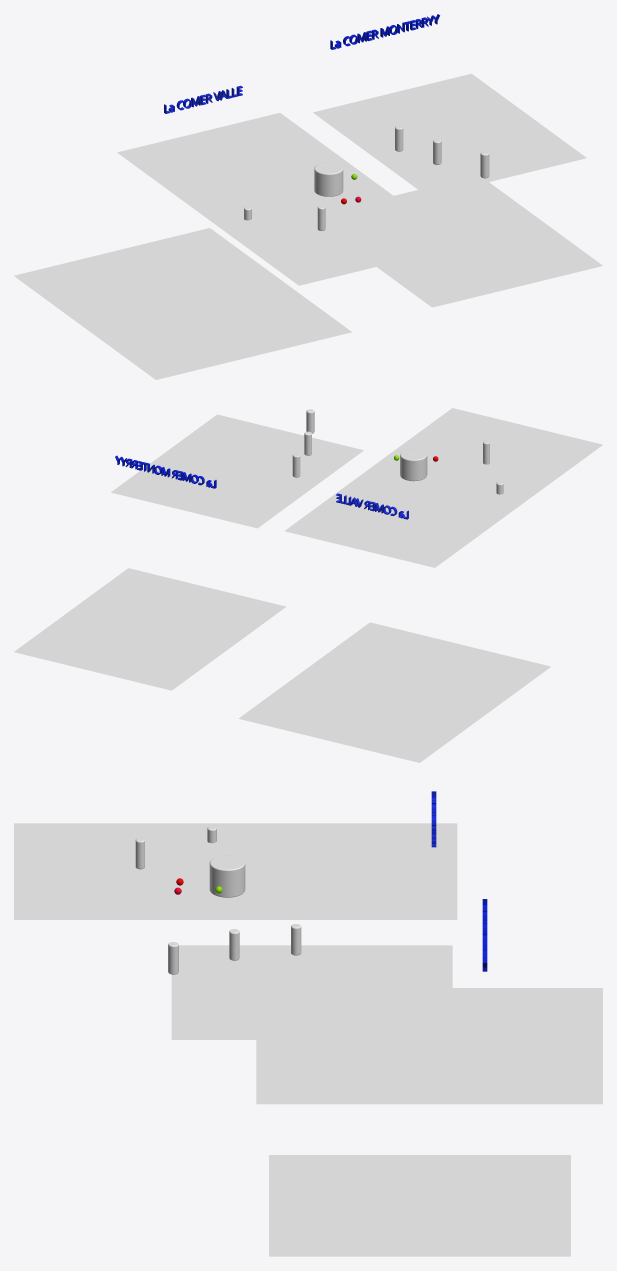
Rendered from lacomer.glb.
3 views of the same model, one above another, from view 1: azimuth 30°, elevation 25°; view 2: azimuth 150°, elevation 25°; view 3: azimuth 270°, elevation 25° (orthographic). The views are drawn at different scales.
Parts seen in each view (by area): view 1: Plane 2, Plane, Plane 5, Plane 3, Cylinder 2; view 2: Plane 2, Plane, Plane 3, Plane 5, Cylinder 2; view 3: Plane 2, Plane 3, Plane, Plane 5, Cylinder 2.
Boxes of the visible parts, box(x1,y1,x2,y2) form: Plane 2: box(117, 113, 461, 285); Plane: box(14, 228, 351, 379); Plane 5: box(313, 73, 586, 196); Plane 3: box(377, 182, 602, 307); Cylinder 2: box(314, 162, 343, 196); Plane 2: box(285, 408, 602, 567); Plane: box(239, 622, 550, 762); Plane 3: box(14, 568, 285, 690); Plane 5: box(111, 414, 363, 528); Cylinder 2: box(400, 449, 427, 481); Plane 2: box(14, 823, 457, 919); Plane 3: box(269, 1155, 570, 1256); Plane: box(256, 988, 602, 1104); Plane 5: box(171, 945, 452, 1039); Cylinder 2: box(209, 855, 245, 897).
Size of the model in its own units: 2.06 by 0.8881 by 1.9.
